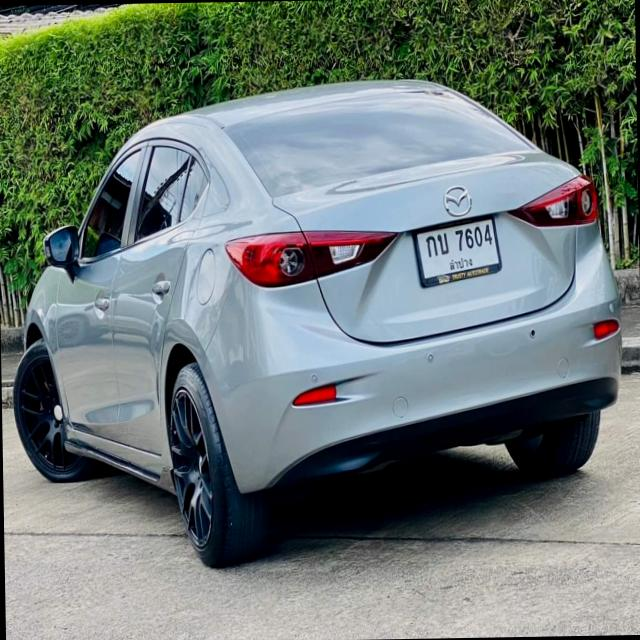license_plate: (411, 211, 504, 290)
